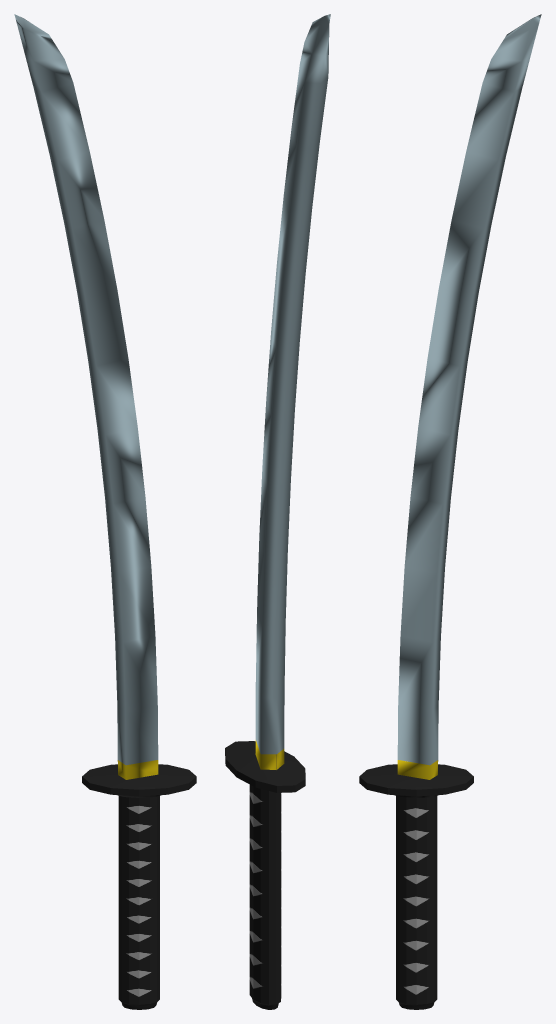
Rendered from runite_katana.glb.
3 renders of one model, left to right at view 1: azimuth 90°, elevation 25°; view 2: azimuth 210°, elevation 25°; view 3: azimuth 270°, elevation 25°, orthographic. The views are drawn at different scales.
Parts seen in each view (by area): view 1: Steel Katana; view 2: Steel Katana; view 3: Steel Katana.
Boxes of the visible parts, x1,y1,x2,y2 form: Steel Katana: (14,14,196,1009); Steel Katana: (225,14,330,1009); Steel Katana: (359,14,541,1009).
Bounding box in the file's own units: 0.0388 × 0.669 × 0.1115.
2 materials, 1 textured.
